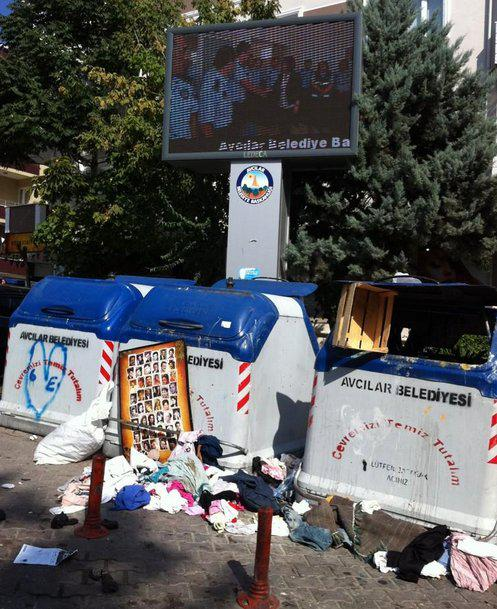Container: (301, 280, 497, 495), (134, 258, 312, 458), (0, 282, 131, 434)
Garbage: (130, 443, 231, 521), (22, 417, 123, 458), (23, 534, 71, 582), (50, 499, 91, 523), (144, 480, 170, 504)
